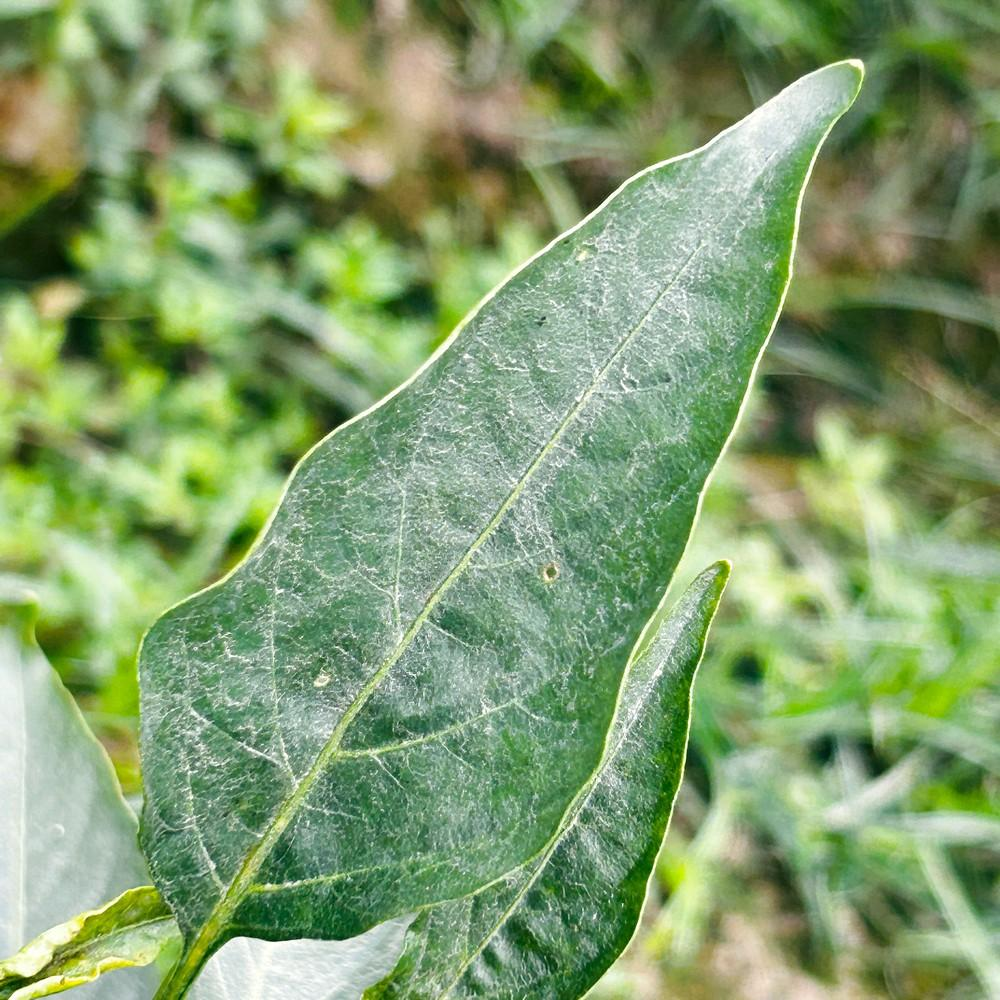Daun Cabai Sehat: (129, 54, 866, 997)
